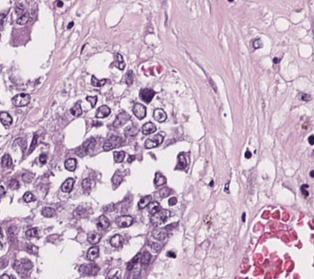nucleus: (152, 223, 176, 240), (76, 137, 95, 156), (150, 209, 170, 225), (13, 259, 32, 274), (113, 111, 130, 127), (103, 135, 121, 150), (145, 134, 163, 148), (12, 93, 29, 106), (139, 88, 154, 102), (132, 103, 145, 119), (127, 253, 140, 269), (115, 215, 132, 227), (95, 105, 110, 118), (79, 264, 98, 274), (153, 108, 166, 122), (61, 178, 74, 192), (87, 231, 101, 244), (141, 122, 156, 134), (91, 75, 107, 86), (111, 171, 122, 187), (138, 195, 151, 208), (147, 201, 160, 214), (0, 112, 12, 126), (81, 178, 93, 192), (97, 215, 109, 229), (74, 205, 89, 216), (28, 135, 37, 153), (114, 53, 124, 69), (64, 158, 76, 171), (110, 234, 122, 247), (70, 102, 81, 116), (154, 172, 165, 186), (41, 206, 55, 217), (87, 246, 98, 260), (177, 153, 187, 168), (124, 124, 137, 135), (1, 153, 11, 167), (158, 187, 171, 197), (140, 251, 150, 264), (124, 70, 133, 84), (113, 151, 124, 162), (25, 228, 37, 238), (149, 242, 161, 252), (86, 96, 96, 107), (22, 172, 33, 182), (23, 192, 34, 202), (26, 245, 37, 253), (209, 79, 216, 91), (252, 39, 261, 48), (9, 179, 18, 188), (38, 153, 46, 163), (168, 197, 176, 205), (105, 204, 114, 210), (245, 150, 251, 158), (167, 251, 175, 257), (0, 185, 4, 196), (128, 155, 134, 162), (273, 57, 279, 63), (224, 183, 228, 192), (1, 275, 11, 278), (242, 213, 245, 221)
